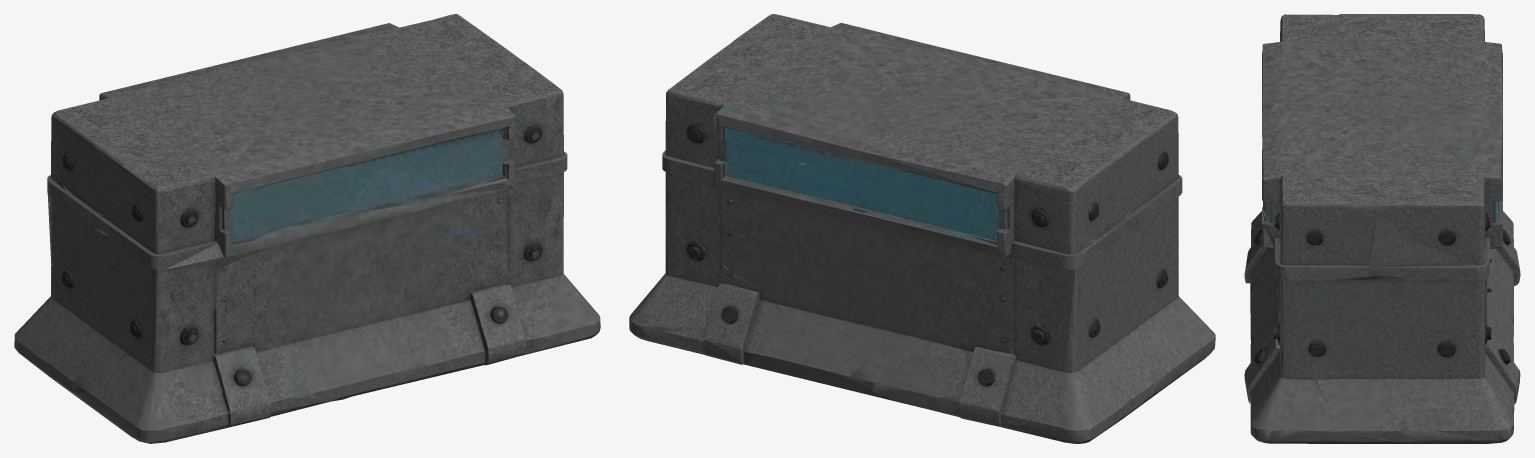
The model's file is p_barrier.glb.
3 renders of one model, left to right at view 1: azimuth 30°, elevation 25°; view 2: azimuth 150°, elevation 25°; view 3: azimuth 270°, elevation 25°, orthographic. The views are drawn at different scales.
Visible parts, largest first — view 1: mesh_0; view 2: mesh_0; view 3: mesh_0.
Part boxes in pixels (left/top/right/bottom): mesh_0: left=14, top=14, right=600, bottom=443; mesh_0: left=629, top=14, right=1215, bottom=443; mesh_0: left=1244, top=14, right=1520, bottom=443.
Bounding box in the file's own units: 1.9 × 0.9479 × 1.03.
Materials: 1 (1 with a texture image).
